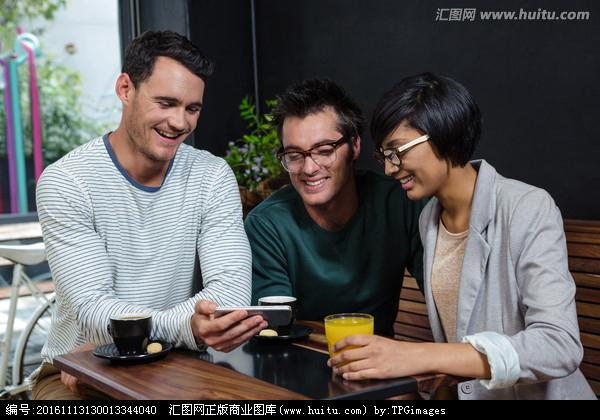no-phone: (321, 309, 415, 383)
reading: (189, 295, 294, 355)
